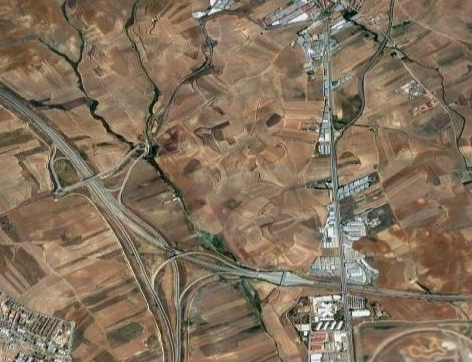industrial: (300, 295, 357, 362), (271, 1, 343, 26)
motorway: (100, 191, 252, 362), (1, 81, 152, 252), (316, 122, 367, 362), (251, 260, 472, 313), (349, 1, 413, 127)
